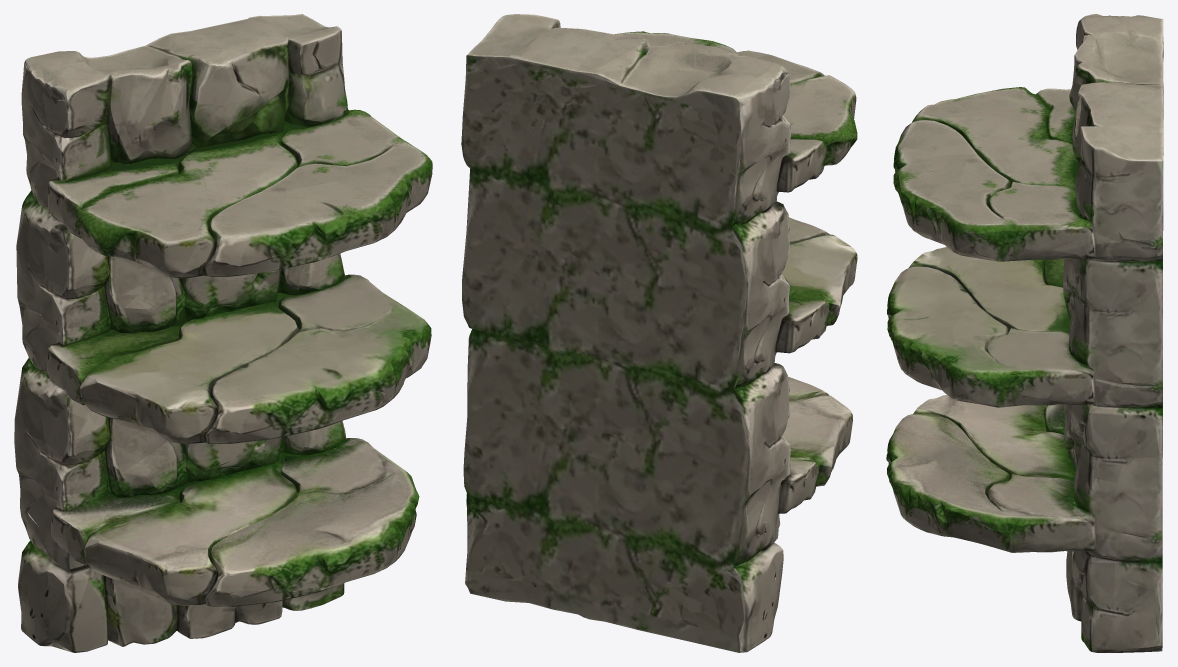
Rendered from RockShelves.fbx.
The picture shows the model from 3 angles, left to right: view 1: azimuth 30°, elevation 25°; view 2: azimuth 150°, elevation 25°; view 3: azimuth 270°, elevation 25°; orthographic projection. The views are drawn at different scales.
Visible parts, largest first — view 1: RockShelves; view 2: RockShelves; view 3: RockShelves.
Part boxes in pixels (left/top/right/bottom): RockShelves: left=14, top=14, right=432, bottom=652; RockShelves: left=461, top=14, right=857, bottom=652; RockShelves: left=886, top=14, right=1163, bottom=652.
Bounding box in the file's own units: 1.17 × 2 × 0.9685.
1 material, 1 textured.
